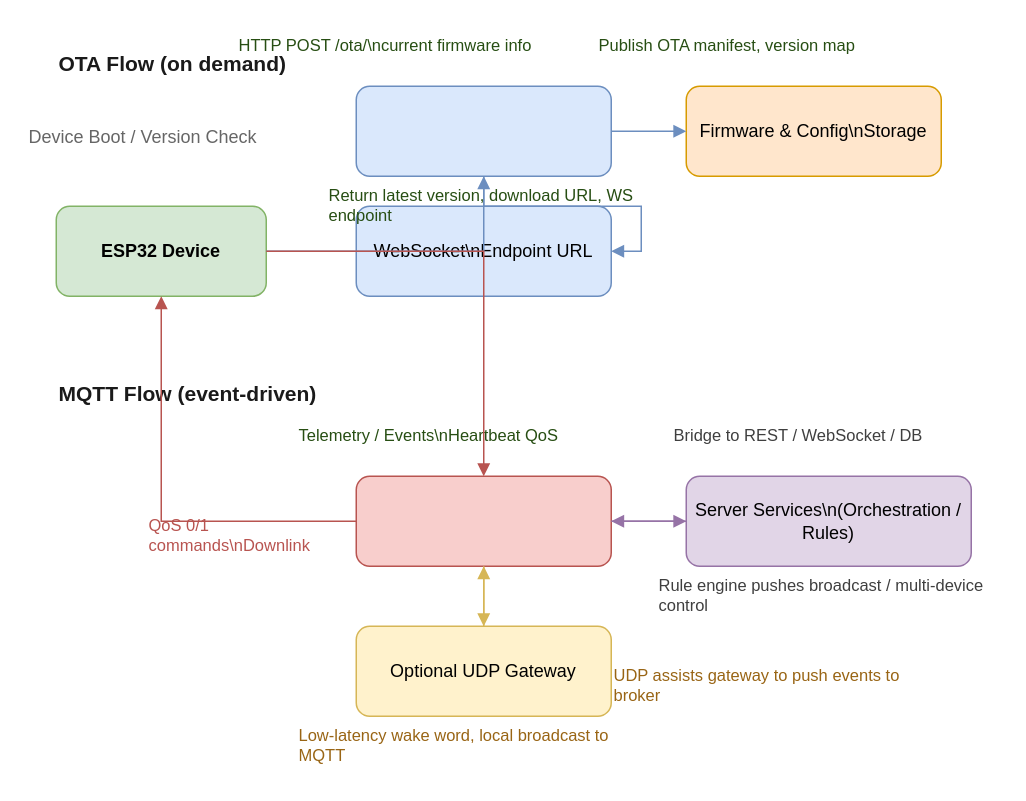
Image size: 1026x801. Some labels were removed from this diagram. The box of each missing label's shape, as (x1, y1, x2, y2) in pixels:
HTTP OTA\nDiscovery API: (355, 85, 611, 176)
MQTT Broker: (355, 475, 611, 566)
